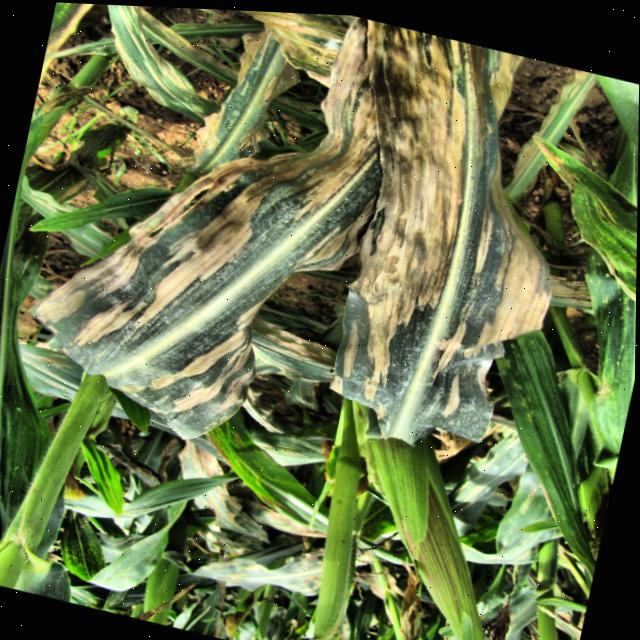blight: (316, 23, 596, 460)
